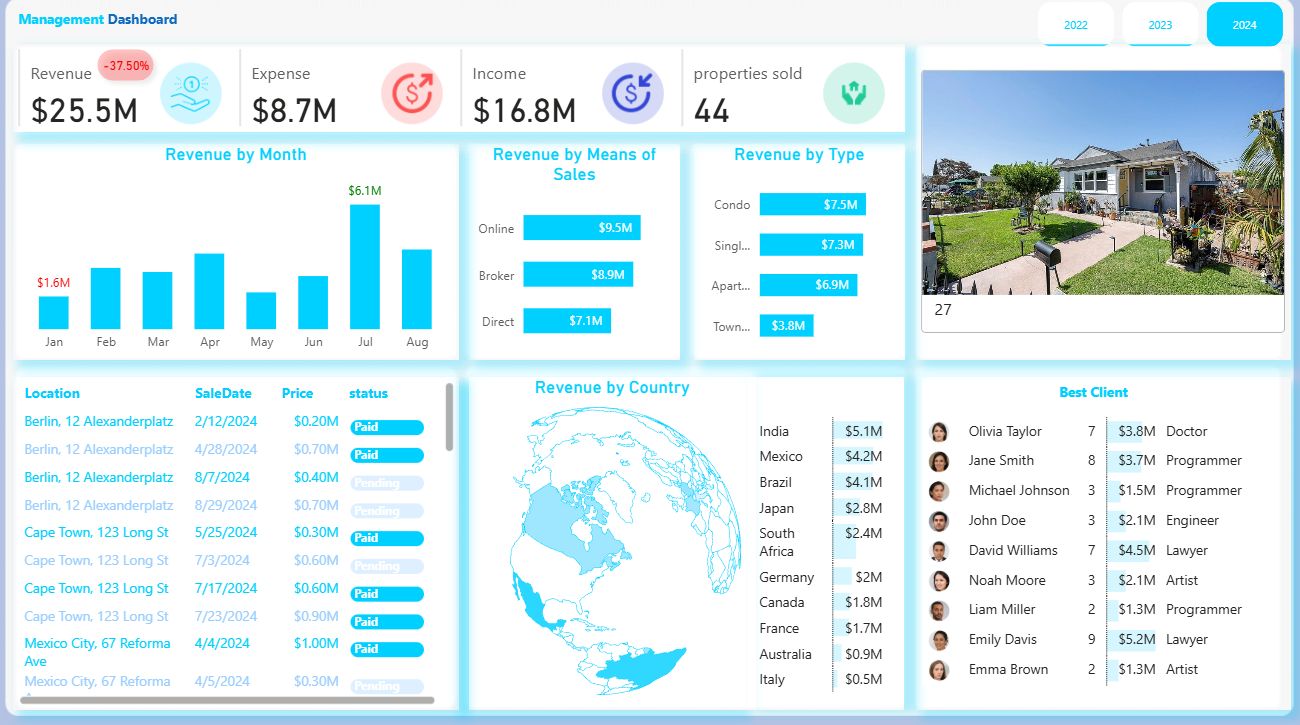

What the dashboard file says about the page in this screenshot:
{"tool":"powerbi","page":{"name":"Page 1","canvas":[1280,720],"ordinal":0},"visuals":[{"type":"cardVisual","fields":{"Data":["All measures.Revenue","All measures.Expense","All measures.Income","All measures.properties sold"]},"box":[21.4,52.5,867.6,85.6],"z":0},{"type":"advancedSlicerVisual","fields":{"Values":["Calendar.Year"]},"box":[1013.5,6.8,250.9,53.5],"z":1000},{"type":"clusteredColumnChart","fields":{"Y":["All measures.Revenue"],"Category":["Calendar.Month"]},"box":[21.4,149.8,433.8,210.1],"z":2000},{"type":"card","fields":{"Values":["All measures.Revenue Growth %"]},"box":[103.1,60.3,56.4,25.3],"z":3000},{"type":"shape","box":[94.3,48.6,72.9,48.6],"z":4000},{"type":"clusteredBarChart","fields":{"Category":["Sales_Table.Means of Sales"],"Y":["All measures.Revenue"]},"box":[464.9,149.8,205.2,210.1],"z":5000},{"type":"barChart","fields":{"Category":["Property_Table.Type"],"Y":["All measures.Revenue"]},"box":[683.8,149.8,205.2,210.1],"z":6000},{"type":"tableEx","fields":{"Values":["Property_Table.Location","Sales_Table.SaleDate","Sum(Property_Table.Price)","All measures.payment status svg"]},"box":[21,376.7,433.7,323.7],"z":7000},{"type":"tableEx","fields":{"Values":["Property_Table.Country","All measures.Revenue"]},"box":[736.4,376.7,152.2,323.7],"z":8000},{"type":"tableEx","fields":{"Values":["Client_Table.Img","Client_Table.Name","All measures.properties sold","All measures.Revenue","Client_Table.Occupation"]},"box":[899.7,376.4,364.7,323.9],"z":9000},{"type":"shapeMap","fields":{"Category":["Property_Table.Country"],"Value":["All measures.Revenue"]},"box":[464.9,376.4,279.1,323.9],"z":10000},{"type":"advancedSlicerVisual","fields":{"Values":["Property_Table.PropertyID"]},"box":[899.3,53,364.7,306.8],"z":11000},{"type":"textbox","box":[21,14,182.9,39],"z":12000},{"type":"textbox","box":[1034.2,376.7,95.9,31],"z":13000}]}

Visuals, with their boxes in screenshot pixels (x1, y1, x2, y2), scaled from the page's 1280x720 canvas onto the 1300x725 screenshot:
cardVisual - All measures.Revenue x All measures.Expense: <bbox>22, 53, 903, 139</bbox>
advancedSlicerVisual - Calendar.Year: <bbox>1029, 7, 1284, 61</bbox>
clusteredColumnChart - All measures.Revenue x Calendar.Month: <bbox>22, 151, 462, 362</bbox>
card - All measures.Revenue Growth %: <bbox>105, 61, 162, 86</bbox>
shape: <bbox>96, 49, 170, 98</bbox>
clusteredBarChart - Sales_Table.Means of Sales x All measures.Revenue: <bbox>472, 151, 681, 362</bbox>
barChart - Property_Table.Type x All measures.Revenue: <bbox>694, 151, 903, 362</bbox>
tableEx - Property_Table.Location x Sales_Table.SaleDate: <bbox>21, 379, 462, 705</bbox>
tableEx - Property_Table.Country x All measures.Revenue: <bbox>748, 379, 902, 705</bbox>
tableEx - Client_Table.Img x Client_Table.Name: <bbox>914, 379, 1284, 705</bbox>
shapeMap - Property_Table.Country x All measures.Revenue: <bbox>472, 379, 756, 705</bbox>
advancedSlicerVisual - Property_Table.PropertyID: <bbox>913, 53, 1284, 362</bbox>
textbox: <bbox>21, 14, 207, 53</bbox>
textbox: <bbox>1050, 379, 1148, 411</bbox>
